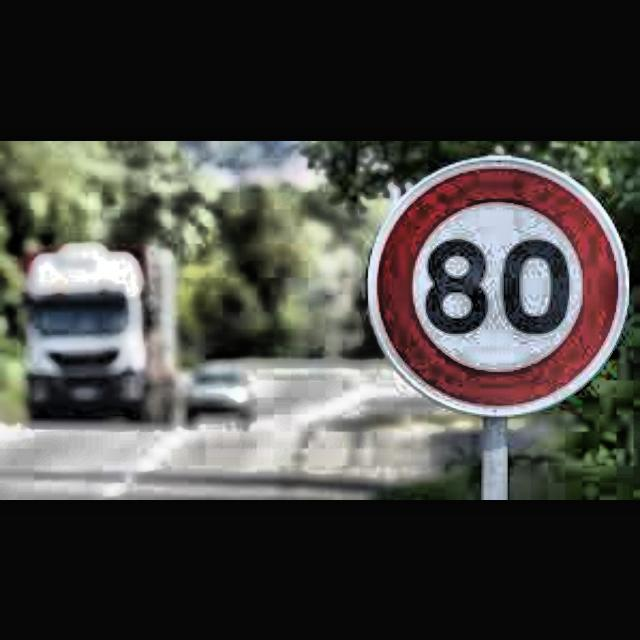speed_80: (364, 154, 632, 418)
